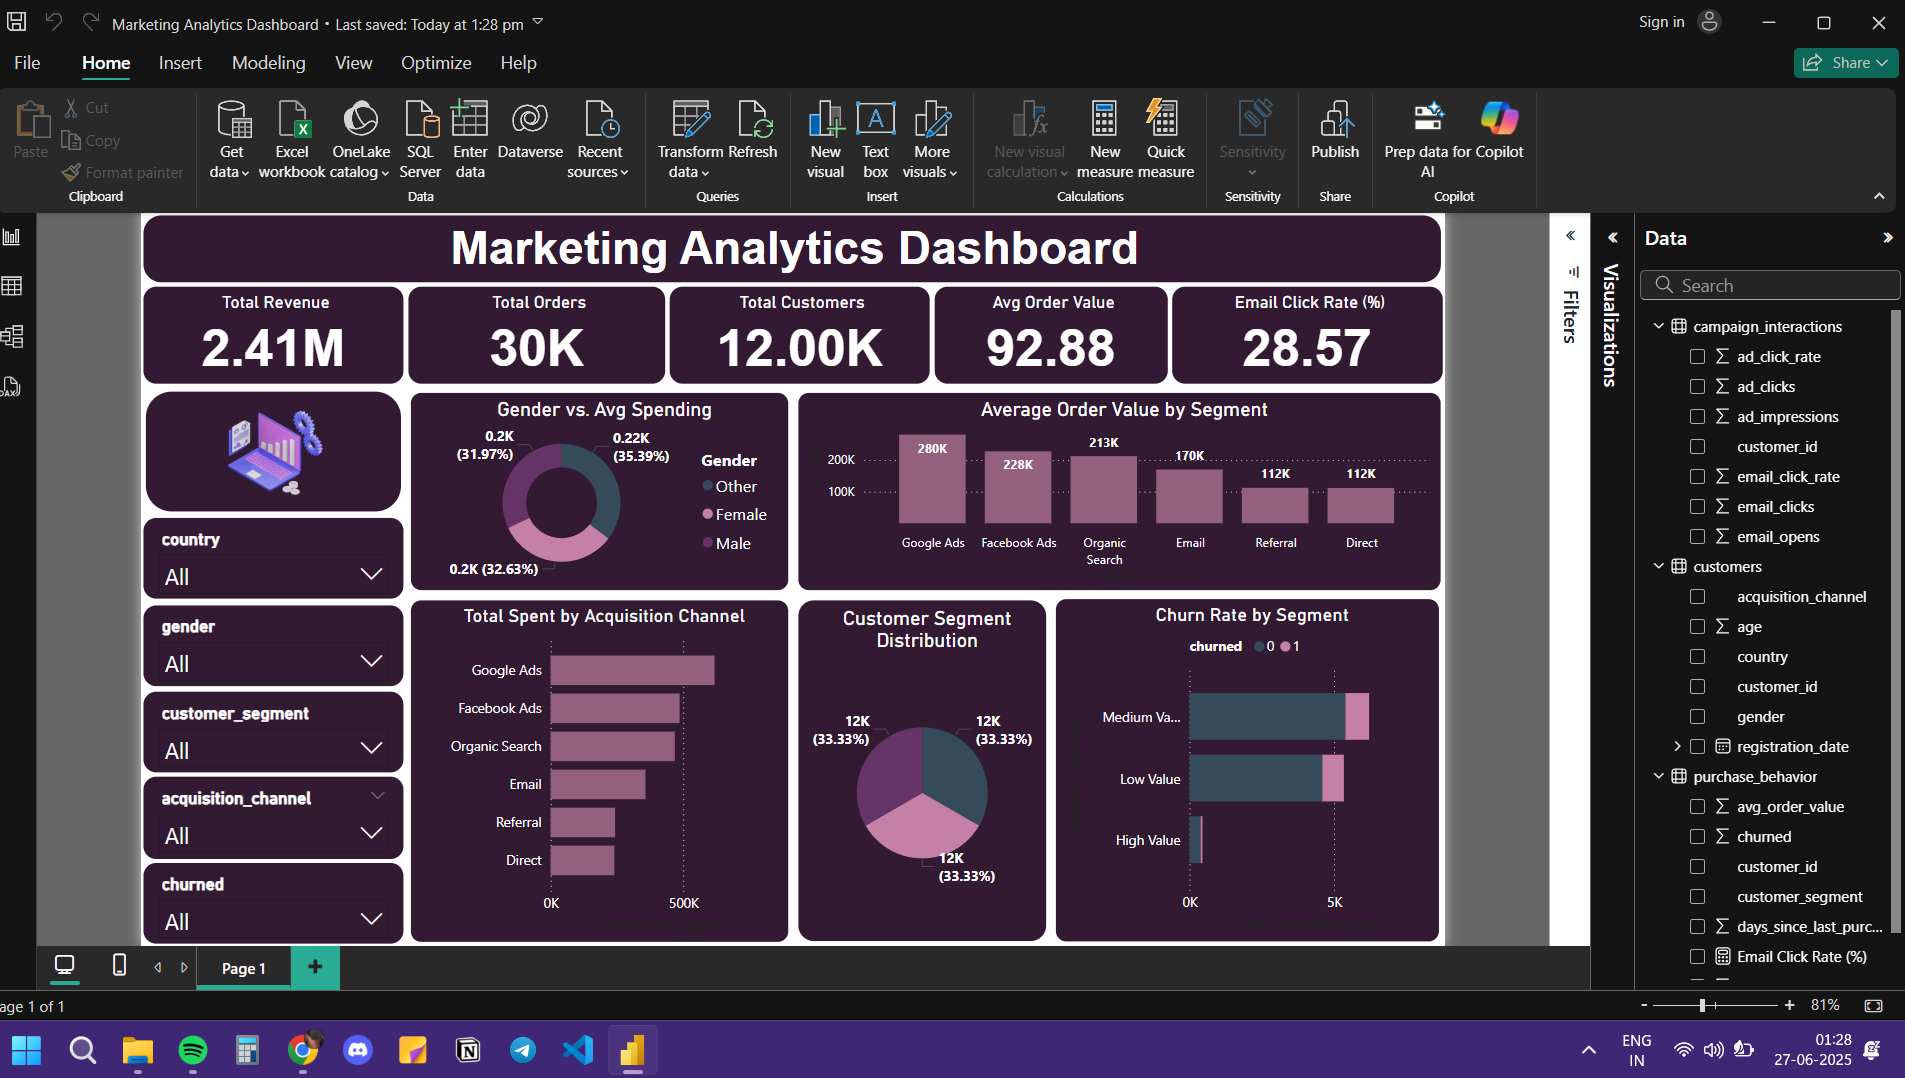

What the dashboard file says about the page in this screenshot:
{"tool":"powerbi","page":{"name":"Page 1","canvas":[1280,720],"ordinal":0},"visuals":[{"type":"pieChart","title":"Customer Segment Distribution","fields":{"Y":["CountNonNull(customers.customer_id)"],"Category":["purchase_behavior.customer_segment"]},"box":[640,375.7,252.9,344.3],"z":0},{"type":"barChart","title":"Total Spent by Acquisition Channel","fields":{"Category":["customers.acquisition_channel"],"Y":["Sum(purchase_behavior.total_spent)"]},"box":[260,375,380,345],"z":1000},{"type":"columnChart","title":"Average Order Value by Segment","fields":{"Y":["Sum(purchase_behavior.avg_order_value)"],"Category":["customers.acquisition_channel"]},"box":[640,171.7,640,203.3],"z":2000},{"type":"barChart","title":"Churn Rate by Segment","fields":{"Series":["purchase_behavior.churned "],"Category":["purchase_behavior.customer_segment"],"Y":["CountNonNull(purchase_behavior.customer_id)"]},"box":[892.9,374.3,385.7,345.7],"z":3000},{"type":"donutChart","title":"Gender vs. Avg Spending","fields":{"Y":["Avg(purchase_behavior.total_spent)"],"Category":["customers.gender"]},"box":[260,171.7,380,203.3],"z":4000},{"type":"slicer","fields":{"Values":["customers.country"]},"box":[0,297.1,260,84.3],"z":5000},{"type":"slicer","fields":{"Values":["customers.gender"]},"box":[0,382.9,260,84.3],"z":6000},{"type":"slicer","fields":{"Values":["purchase_behavior.customer_segment"]},"box":[0,467.1,260,84.3],"z":7000},{"type":"slicer","fields":{"Values":["customers.acquisition_channel"]},"box":[0,551.4,260,85.7],"z":8000},{"type":"textbox","title":"Marketing Analytics Dashboard","box":[0,0,1278.6,70],"z":9000},{"type":"card","title":"Total Revenue","fields":{"Values":["Sum(purchase_behavior.total_spent)"]},"box":[0,70,260,100],"z":10000},{"type":"card","title":"Total Orders","fields":{"Values":["Sum(purchase_behavior.number_of_orders)"]},"box":[260,70,256.7,100],"z":11000},{"type":"card","title":"Total Customers","fields":{"Values":["Count(customers.customer_id)"]},"box":[516.7,70,260,100],"z":12000},{"type":"card","title":"Avg Order Value","fields":{"Values":["Avg(purchase_behavior.avg_order_value)"]},"box":[776.7,70,233.3,100],"z":13000},{"type":"card","title":"Email Click Rate (%)","fields":{"Values":["purchase_behavior.Email Click Rate (%)"]},"box":[1010,70,270,100],"z":14000},{"type":"slicer","fields":{"Values":["purchase_behavior.churned "]},"box":[0,635.7,260,84.3],"z":15000},{"type":"image","box":[0,170,260,127.1],"z":16000}]}

Visuals, with their boxes on the page's 1280x720 design canvas (x1, y1, x2, y2). These are canvas units, not pixel positions in the 1905x1078 screenshot, which may show the page scaled, cropped or inside an application window:
"Customer Segment Distribution" pieChart: crop(640, 376, 893, 720)
"Total Spent by Acquisition Channel" barChart: crop(260, 375, 640, 720)
"Average Order Value by Segment" columnChart: crop(640, 172, 1280, 375)
"Churn Rate by Segment" barChart: crop(893, 374, 1279, 720)
"Gender vs. Avg Spending" donutChart: crop(260, 172, 640, 375)
slicer - customers.country: crop(0, 297, 260, 381)
slicer - customers.gender: crop(0, 383, 260, 467)
slicer - purchase_behavior.customer_segment: crop(0, 467, 260, 551)
slicer - customers.acquisition_channel: crop(0, 551, 260, 637)
"Marketing Analytics Dashboard" textbox: crop(0, 0, 1279, 70)
"Total Revenue" card: crop(0, 70, 260, 170)
"Total Orders" card: crop(260, 70, 517, 170)
"Total Customers" card: crop(517, 70, 777, 170)
"Avg Order Value" card: crop(777, 70, 1010, 170)
"Email Click Rate (%)" card: crop(1010, 70, 1280, 170)
slicer - purchase_behavior.churned : crop(0, 636, 260, 720)
image: crop(0, 170, 260, 297)
